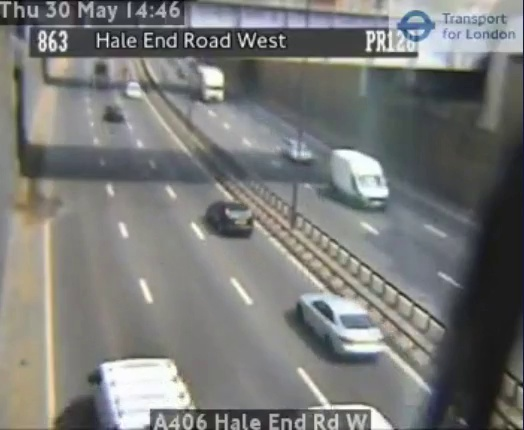car: (296, 291, 386, 355), (208, 201, 253, 234)
